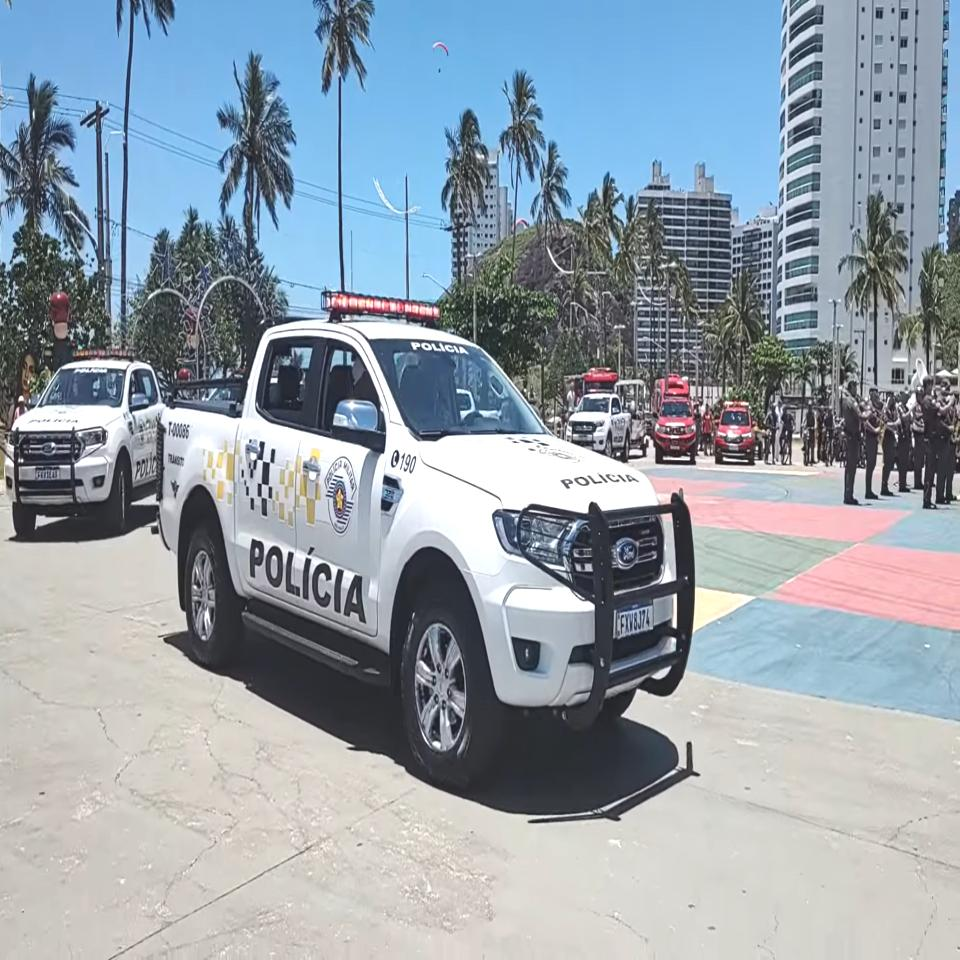viatura: (156, 288, 698, 777), (0, 347, 165, 535)
